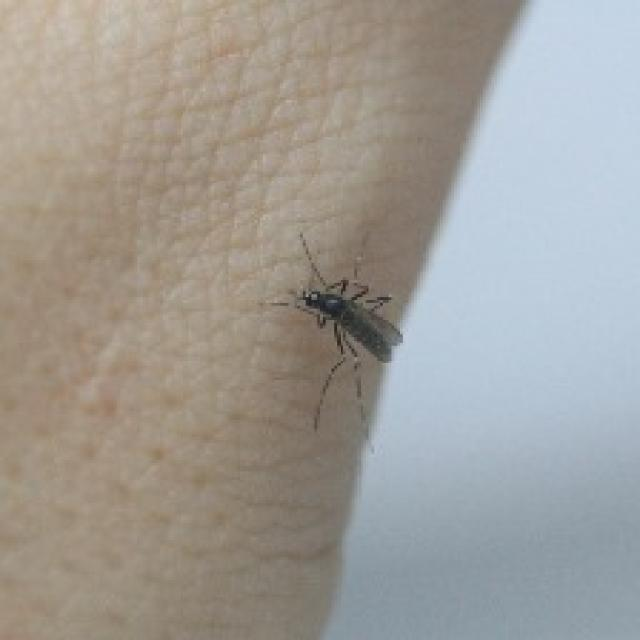aedes: (266, 228, 403, 432)
